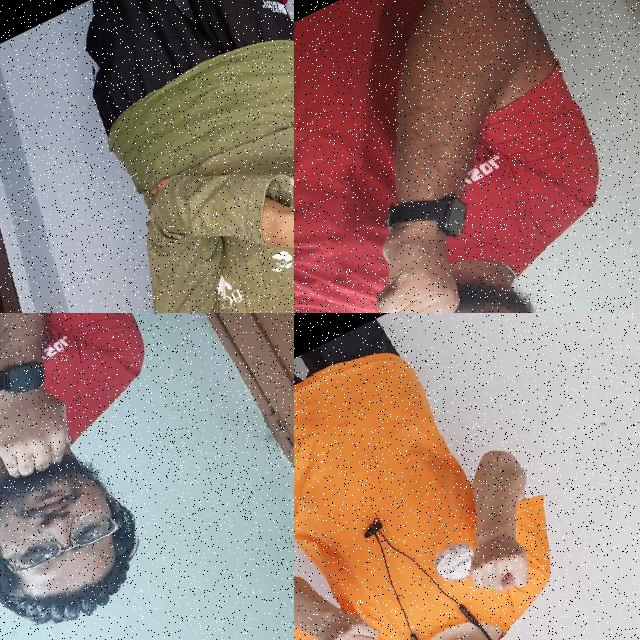Chin Flick: (0, 351, 169, 640)
Dulya: (451, 510, 552, 612), (294, 587, 396, 640)
Fist Mouth: (314, 165, 615, 313)
